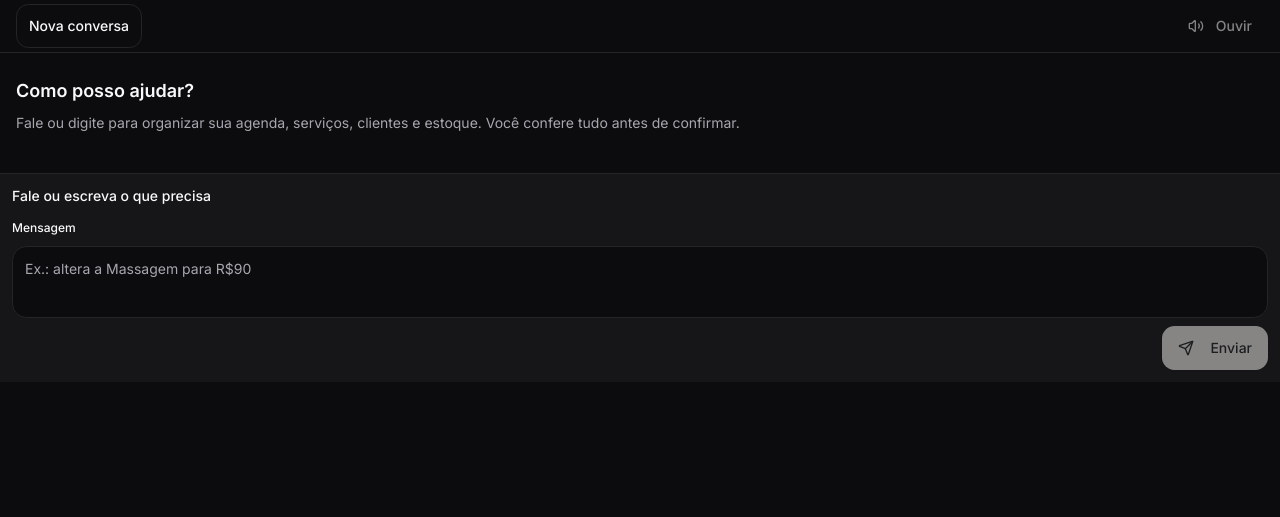
Scenario: the review box is driven by the status (copy on) › OVERRIDABLE: "Horário com conflito" with the backend cause
The width and height of the screenshot is (1280, 517).
Click the button "Nova conversa" at [79, 26], box x1=16 y1=4 x2=142 y2=48
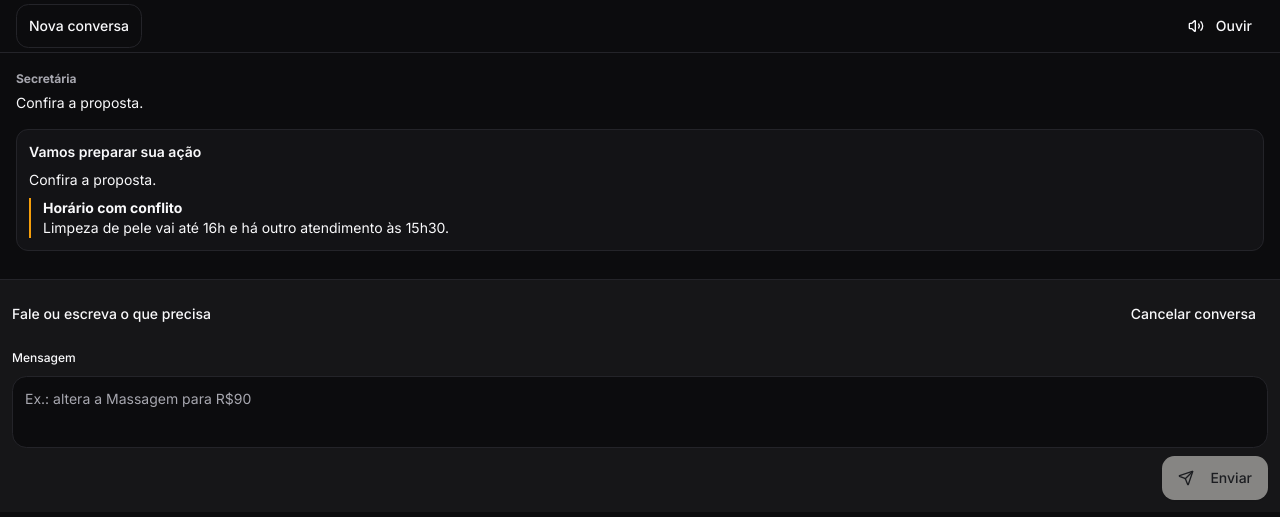
Expected: the text "Horário com conflito" is shown, x1=43 y1=199 x2=182 y2=216
Expected: the text "Limpeza de pele vai até 16h e há outro atendimento às 15h30." is shown, x1=43 y1=219 x2=449 y2=236
